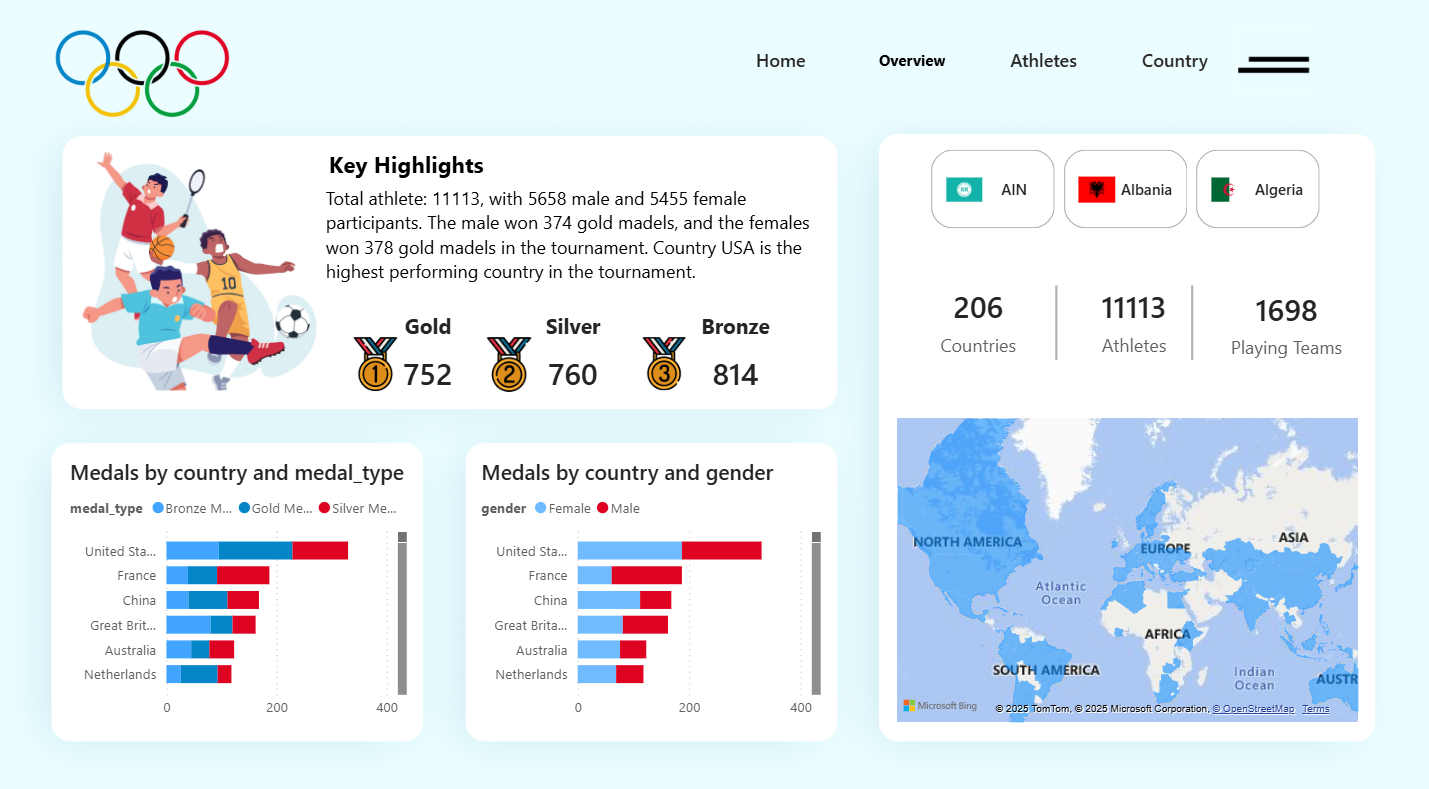

The dashboard page shown, as its layout file describes it:
{"tool":"powerbi","page":{"name":"Overview","canvas":[1280,720],"ordinal":1},"visuals":[{"type":"actionButton","box":[1103.5,29.8,68.3,58.3],"z":0},{"type":"card","title":"Gold","fields":{"Values":["olympics_meaures.Total_Gold"]},"box":[324.4,283.3,120,86.7],"z":1000},{"type":"card","title":"Silver","fields":{"Values":["olympics_meaures.Total_Silver"]},"box":[444.4,283.3,137.8,86.7],"z":2000},{"type":"card","title":"Bronze","fields":{"Values":["olympics_meaures.Total_Bronze"]},"box":[602.2,283.3,111.1,86.7],"z":3000},{"type":"advancedSlicerVisual","fields":{"Values":["Medalist.country"]},"box":[807.1,135.1,398.1,80],"z":4000},{"type":"filledMap","fields":{"Category":["Medalist.country"]},"box":[797.5,374,419.8,279.9],"z":5000},{"type":"barChart","title":"Medals by country and medal_type","fields":{"Y":["olympics_meaures.total_medals"],"Category":["Medalist.country"],"Series":["Medalist.medal_type"]},"box":[60.3,413.8,310.1,240.1],"z":6000},{"type":"barChart","title":"Medals by country and gender","fields":{"Y":["olympics_meaures.total_medals"],"Category":["Medalist.country"],"Series":["Medalist.gender"]},"box":[425.9,413.8,312.5,240.1],"z":7000},{"type":"card","fields":{"Values":["olympics_meaures.playing_team"]},"box":[1080,250,137.5,86.2],"z":8000},{"type":"card","fields":{"Values":["olympics_meaures.country_playing"]},"box":[806.2,248.8,136.2,86.2],"z":9000},{"type":"card","fields":{"Values":["olympics_meaures.Total_Athletes"]},"box":[943.8,248.8,137.5,86.2],"z":10000},{"type":"shape","box":[292.5,157.5,446.2,115],"z":11000},{"type":"shape","box":[928.8,260,30,66.2],"z":12000},{"type":"shape","box":[1047.5,260,33.8,66.2],"z":13000},{"type":"image","box":[305.6,302.2,64.4,57.8],"z":14000},{"type":"image","box":[425.6,302.2,62.2,58.9],"z":15000},{"type":"image","box":[563.3,302.2,62.2,56.7],"z":16000},{"type":"image","box":[60,128.8,245,230],"z":17000},{"type":"shape","box":[284.7,129.1,159.3,45.8],"z":18000},{"type":"image","box":[17.5,6.2,225,128.8],"z":19000},{"type":"pageNavigator","box":[644.2,19.9,459.3,78.2],"z":20000}]}

Visuals, with their boxes in screenshot pixels (x1, y1, x2, y2), scaled from the page's 1280x720 canvas onto the 1429x789 screenshot:
actionButton: <box>1232,33,1308,97</box>
"Gold" card: <box>362,310,496,405</box>
"Silver" card: <box>496,310,650,405</box>
"Bronze" card: <box>672,310,796,405</box>
advancedSlicerVisual - Medalist.country: <box>901,148,1345,236</box>
filledMap - Medalist.country: <box>890,410,1359,717</box>
"Medals by country and medal_type" barChart: <box>67,453,414,717</box>
"Medals by country and gender" barChart: <box>475,453,824,717</box>
card - olympics_meaures.playing_team: <box>1206,274,1359,368</box>
card - olympics_meaures.country_playing: <box>900,273,1052,367</box>
card - olympics_meaures.Total_Athletes: <box>1054,273,1207,367</box>
shape: <box>327,173,825,299</box>
shape: <box>1037,285,1070,357</box>
shape: <box>1169,285,1207,357</box>
image: <box>341,331,413,395</box>
image: <box>475,331,545,396</box>
image: <box>629,331,698,393</box>
image: <box>67,141,341,393</box>
shape: <box>318,141,496,192</box>
image: <box>20,7,271,148</box>
pageNavigator: <box>719,22,1232,108</box>
